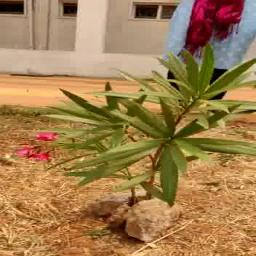OLEANDER: (12, 43, 255, 204)
